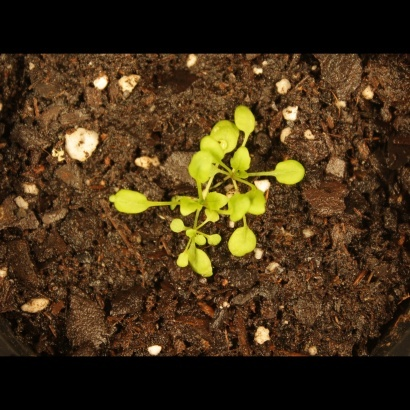leaf: (109, 187, 152, 219), (195, 132, 231, 166), (272, 156, 309, 187), (210, 120, 241, 154), (188, 149, 215, 186), (186, 249, 219, 279), (233, 101, 259, 138), (230, 225, 258, 258), (243, 188, 272, 217), (227, 193, 251, 224), (231, 146, 254, 176), (202, 187, 228, 210), (164, 216, 187, 239), (208, 227, 231, 250), (171, 249, 194, 272), (199, 208, 222, 231), (178, 194, 201, 217)
